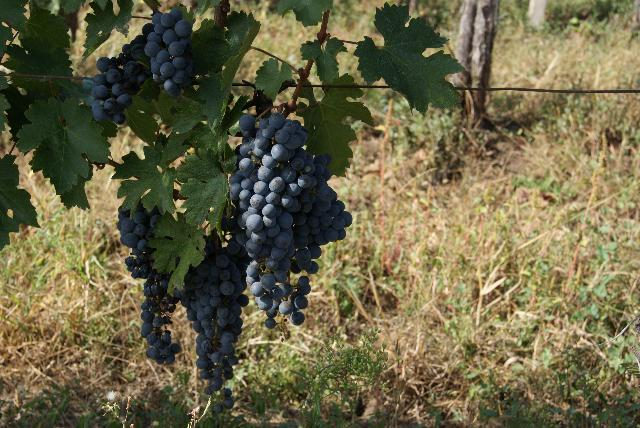grapes: (226, 111, 352, 329), (91, 9, 196, 124), (174, 240, 249, 394), (118, 201, 181, 364)
